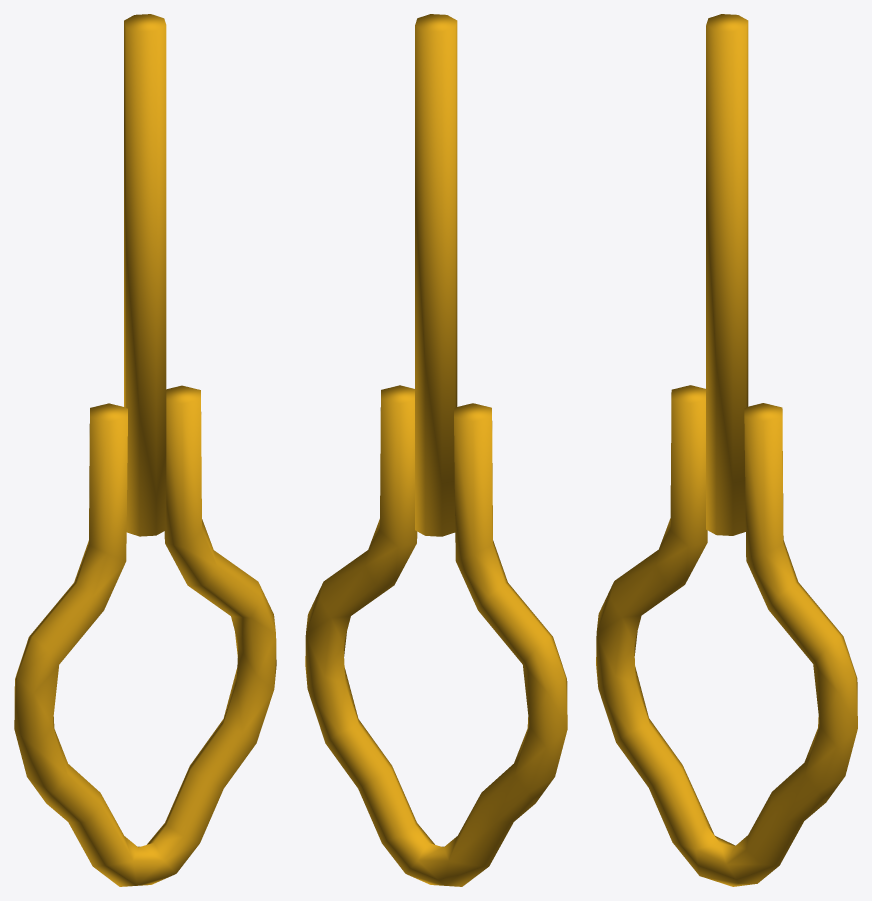
The model's file is Pig Eye Bolt.fbx.
3 renders of one model, left to right at view 1: azimuth 30°, elevation 25°; view 2: azimuth 150°, elevation 25°; view 3: azimuth 330°, elevation 25°, orthographic.
Visible parts, largest first — view 1: BezierCircle.010; view 2: BezierCircle.010; view 3: BezierCircle.010.
Boxes of the visible parts, <box> form: BezierCircle.010: <box>14,14,276,886</box>; BezierCircle.010: <box>305,14,567,886</box>; BezierCircle.010: <box>596,14,857,886</box>.
Size of the model in its own units: 11.41 by 35.91 by 1.65.
